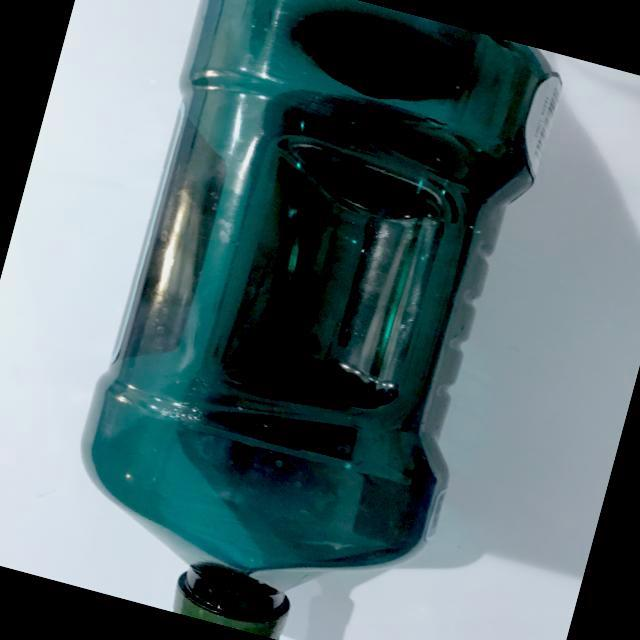plastic: (9, 0, 636, 640)
